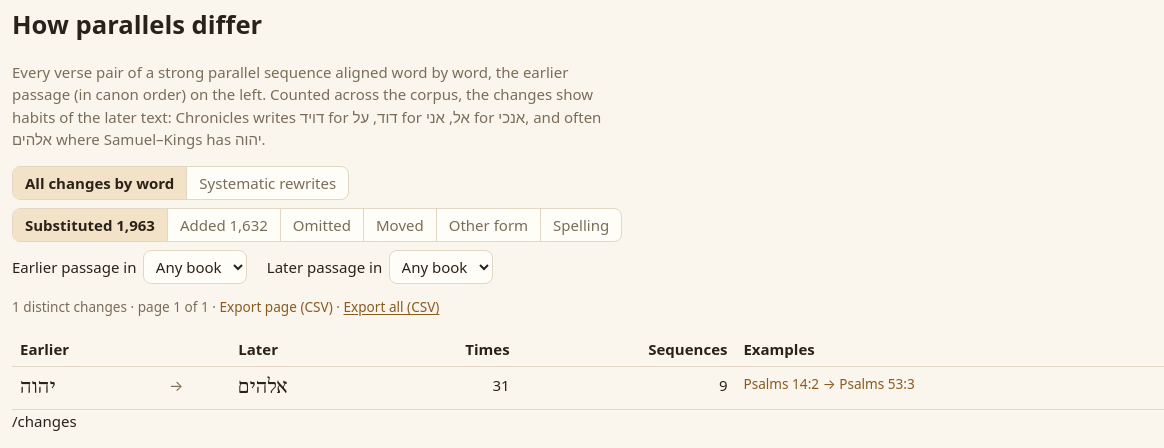
Test: ChangesPage › lists grouped changes with totals per kind and links to the sequence
Check: the text "אלהים" is shown, box [238, 376, 288, 399]
Check: the radio button "Substituted 1,963" is shown, box [13, 209, 167, 241]
Click the radio button "Added 1,632".
click(223, 225)  # box [167, 209, 280, 241]
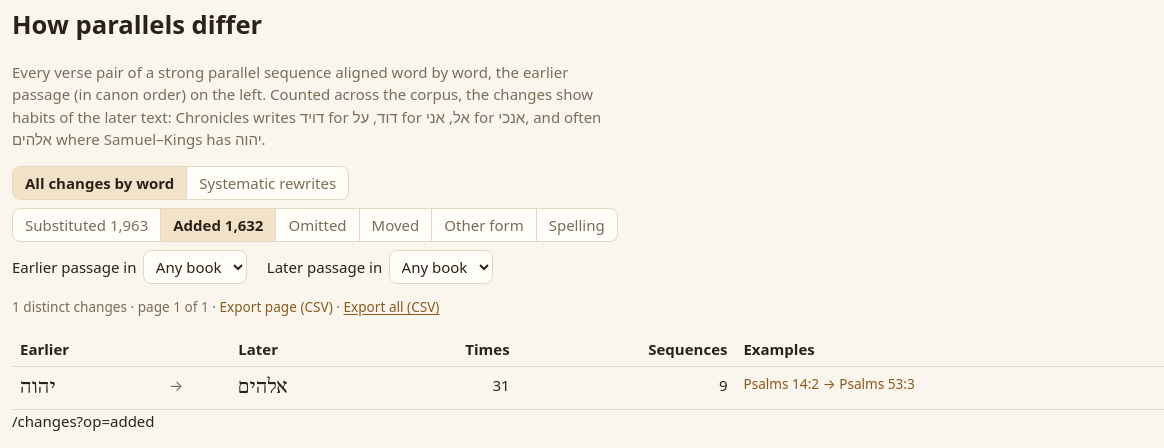
Check: the text with test id "loc" reads "/changes?op=added", box [12, 411, 154, 431]
